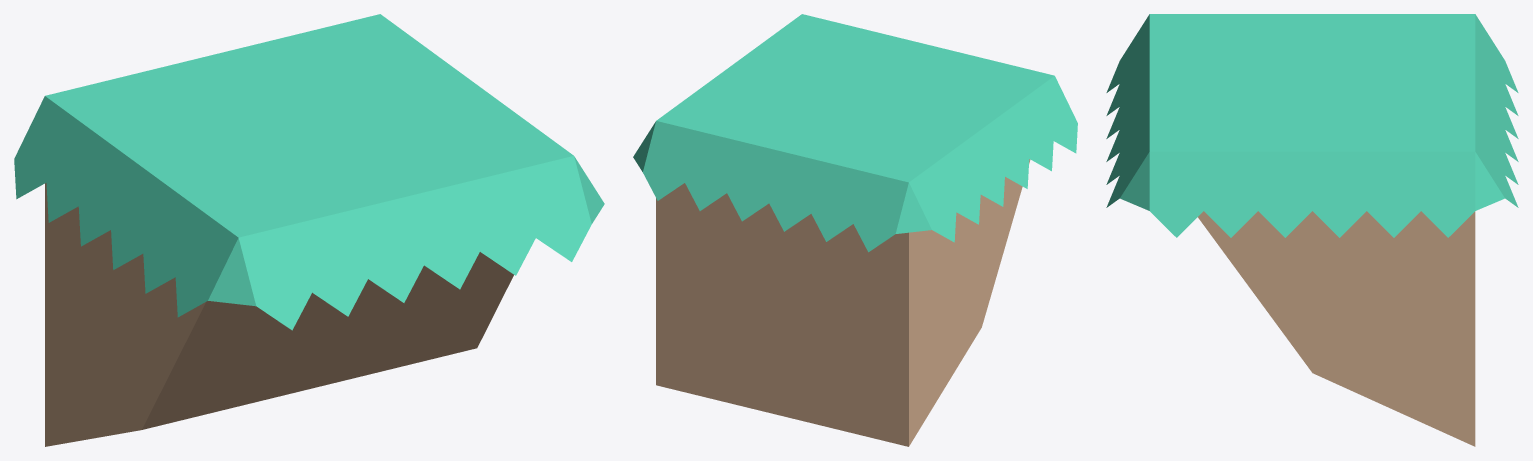
File: blockCliff.glb
The picture shows the model from 3 angles, left to right: view 1: azimuth 30°, elevation 25°; view 2: azimuth 150°, elevation 25°; view 3: azimuth 270°, elevation 25°; orthographic projection. The views are drawn at different scales.
Visible parts, largest first — view 1: blockCliff(Clone); view 2: blockCliff(Clone); view 3: blockCliff(Clone).
Boxes of the visible parts, <box> form: blockCliff(Clone): <box>14,14,604,446</box>; blockCliff(Clone): <box>633,14,1077,446</box>; blockCliff(Clone): <box>1106,14,1518,446</box>.
Bounding box in the file's own units: 1.27 × 1 × 1.27.
